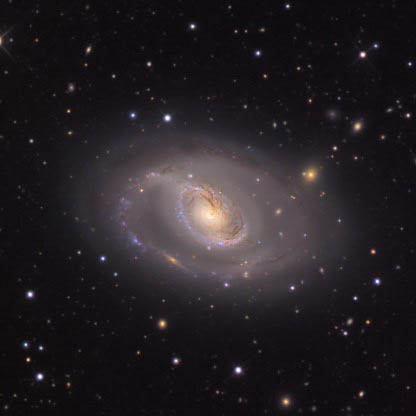Messier 96: (71, 115, 363, 320)
